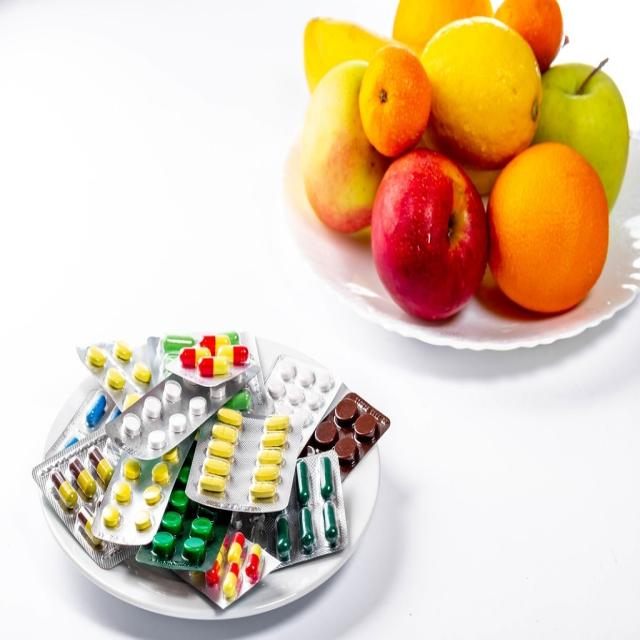Medical Waste: (29, 307, 402, 640)
